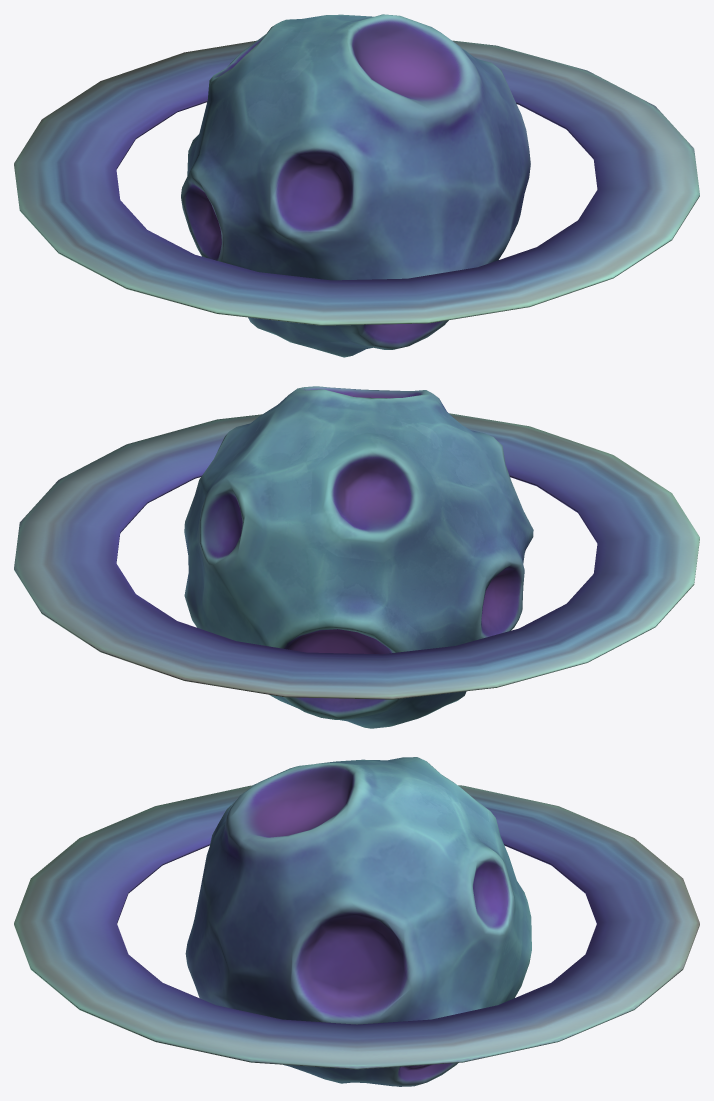
File: Planet_PurpleAsteroid.fbx
3 views of the same model, one above another, from view 1: azimuth 30°, elevation 25°; view 2: azimuth 150°, elevation 25°; view 3: azimuth 270°, elevation 25° (orthographic).
Parts seen in each view (by area): view 1: Planet_PurpleAsteroid, Planet_PurpleAsteroid_Ring; view 2: Planet_PurpleAsteroid, Planet_PurpleAsteroid_Ring; view 3: Planet_PurpleAsteroid, Planet_PurpleAsteroid_Ring.
Boxes of the visible parts, x1,y1,x2,y2 form: Planet_PurpleAsteroid: (181,14,530,357); Planet_PurpleAsteroid_Ring: (14,40,699,325); Planet_PurpleAsteroid: (184,386,533,728); Planet_PurpleAsteroid_Ring: (14,413,699,699); Planet_PurpleAsteroid: (185,757,531,1086); Planet_PurpleAsteroid_Ring: (14,785,699,1069).
Size of the model in its own units: 405 by 207 by 406.
